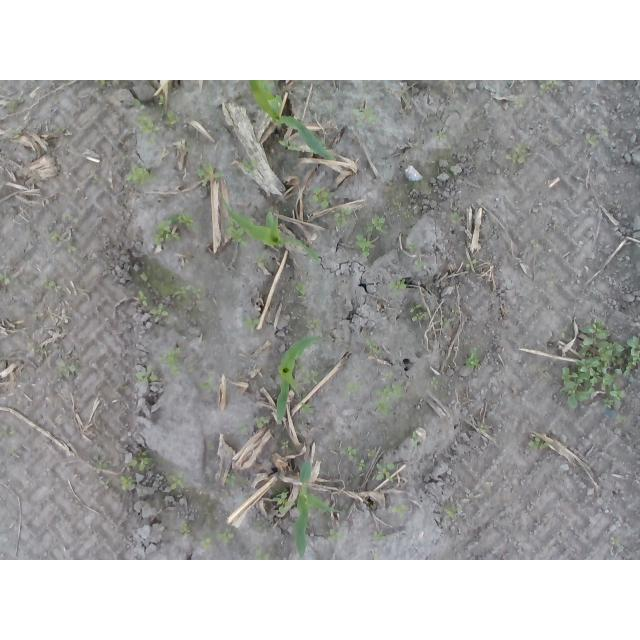Maize: (247, 80, 336, 161), (219, 196, 321, 264), (293, 461, 340, 559), (275, 335, 325, 423)
Weeds: (559, 317, 640, 409), (153, 212, 196, 245), (373, 383, 404, 413), (124, 163, 156, 185), (227, 217, 249, 248), (160, 347, 183, 375), (64, 212, 79, 253), (310, 187, 335, 209), (197, 166, 222, 186), (352, 107, 377, 127), (356, 234, 376, 258), (585, 126, 608, 146), (366, 214, 388, 234), (135, 365, 158, 384), (137, 115, 160, 134), (130, 452, 152, 471), (505, 145, 527, 164), (466, 346, 483, 370), (375, 462, 395, 482), (273, 492, 292, 513), (335, 207, 354, 228), (150, 302, 169, 322), (175, 285, 201, 299), (410, 303, 429, 321), (242, 315, 259, 334), (57, 361, 76, 378), (215, 528, 233, 545), (241, 158, 256, 178), (528, 436, 549, 450), (340, 445, 358, 461), (389, 279, 407, 295), (279, 140, 301, 153), (539, 80, 562, 92), (93, 454, 109, 471), (443, 503, 462, 517), (6, 98, 25, 111), (367, 338, 382, 354), (252, 252, 267, 268), (170, 472, 184, 489), (164, 111, 181, 125), (121, 476, 136, 491), (304, 370, 319, 385), (202, 376, 215, 393), (40, 278, 57, 291), (391, 504, 406, 518), (329, 528, 344, 542), (54, 125, 73, 136), (345, 382, 361, 395), (409, 431, 419, 450), (200, 536, 212, 551), (224, 473, 237, 486), (307, 318, 321, 330), (255, 417, 270, 428), (28, 343, 44, 353), (373, 530, 386, 542), (255, 549, 269, 560), (613, 414, 628, 424), (139, 290, 148, 306), (181, 522, 192, 535), (302, 403, 315, 414), (434, 131, 447, 142), (451, 213, 464, 224), (413, 261, 427, 271), (429, 376, 439, 389), (296, 282, 306, 295), (0, 273, 10, 286), (135, 99, 146, 110), (295, 362, 305, 374), (0, 422, 8, 437), (514, 97, 526, 107), (237, 421, 247, 432), (610, 537, 621, 547), (358, 458, 367, 470), (320, 138, 328, 151), (280, 439, 290, 449), (49, 233, 59, 243), (467, 259, 477, 269), (140, 271, 149, 282), (12, 129, 21, 139), (529, 240, 539, 249), (541, 368, 550, 378), (450, 166, 458, 177), (440, 319, 452, 326), (119, 151, 128, 160), (159, 95, 166, 106), (386, 371, 395, 379), (148, 137, 155, 147), (368, 448, 376, 456), (64, 172, 72, 180), (186, 140, 193, 149), (481, 424, 488, 433), (94, 80, 106, 85), (409, 243, 418, 249), (257, 523, 264, 529), (32, 81, 36, 84)
